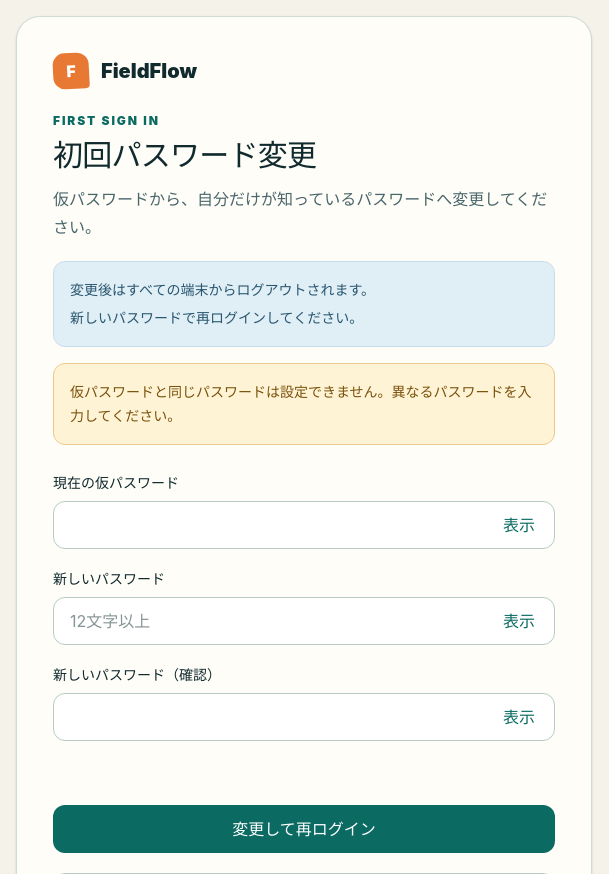
Test case: PasswordChangeView › 現在と同じパスワードを警告してAPI送信前に拒否する
Expected: the text "変更後はすべての端末からログアウトされます。" is shown, [70, 281, 375, 298]
Expected: the text "新しいパスワードで再ログインしてください。" is shown, [70, 309, 363, 326]
Type "temporary-password" into the password field labelled "現在の仮パスワード".
click(304, 525); type("temporary-password")  # box [53, 501, 555, 549]
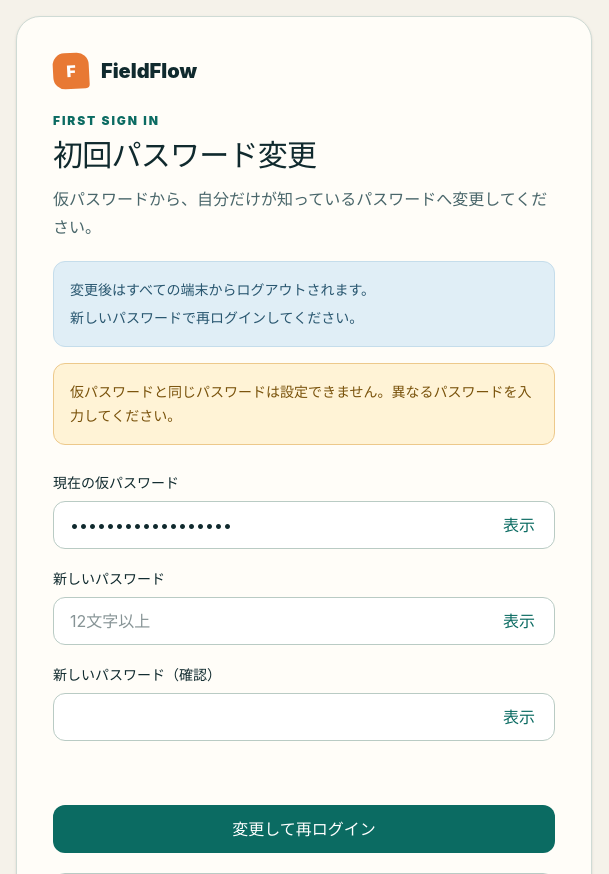
Type "temporary-password" into the password field labelled "新しいパスワード".
click(304, 621); type("temporary-password")  # box [53, 597, 555, 645]
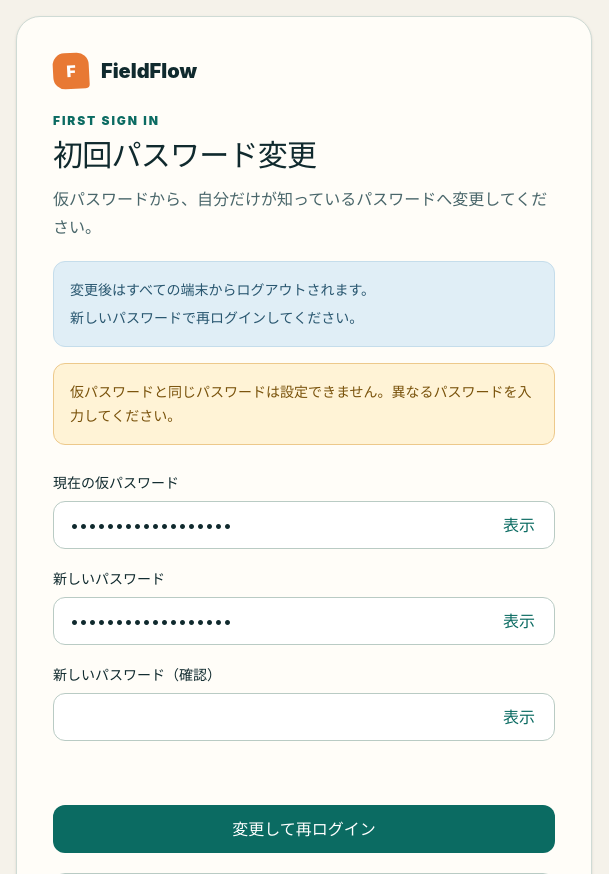
Type "temporary-password" into the password field labelled "新しいパスワード（確認）".
click(304, 717); type("temporary-password")  # box [53, 693, 555, 741]
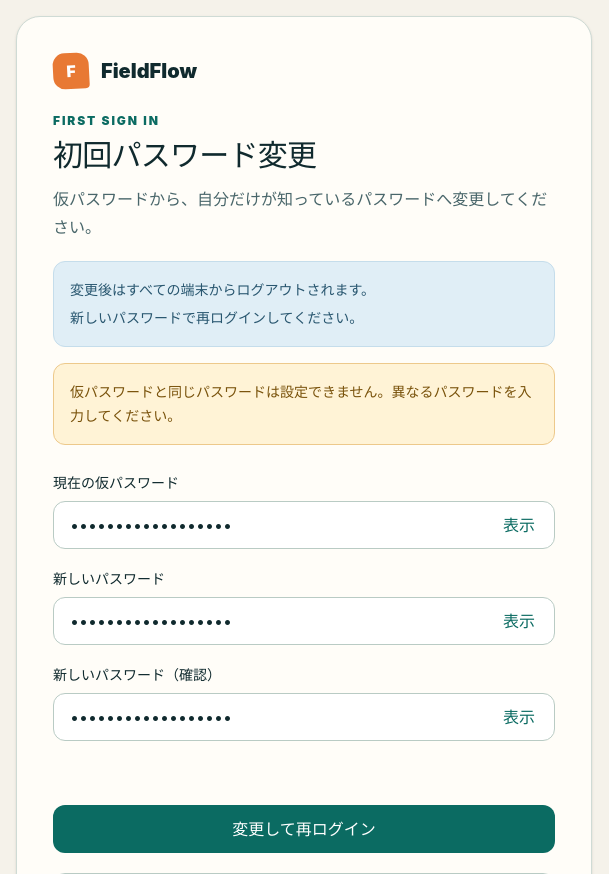
Click the button "変更して再ログイン".
click(304, 829)  # box [53, 805, 555, 853]
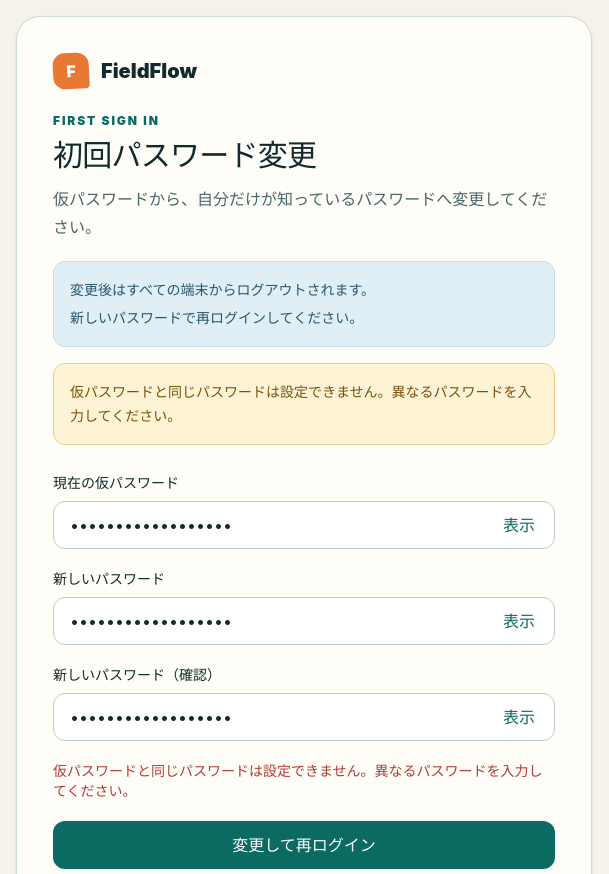
Expected: the message shows "仮パスワードと同じパスワードは設定できません。", [53, 762, 543, 799]
